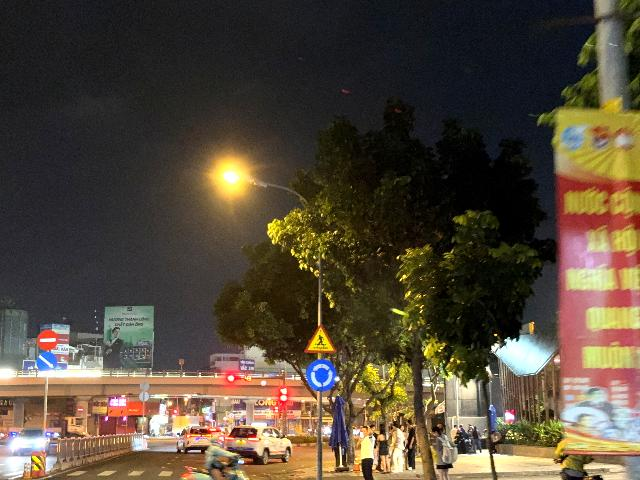cam-di-nguoc-chieu: (37, 329, 58, 350)
duong-nguoi-di-bo-cat-ngang: (304, 323, 337, 353)
huong-phai-di-vong-chuong-ngai-vat: (37, 352, 58, 373)
noi-giao-nhau-chay-theo-vong-xuyen: (306, 358, 337, 391)
